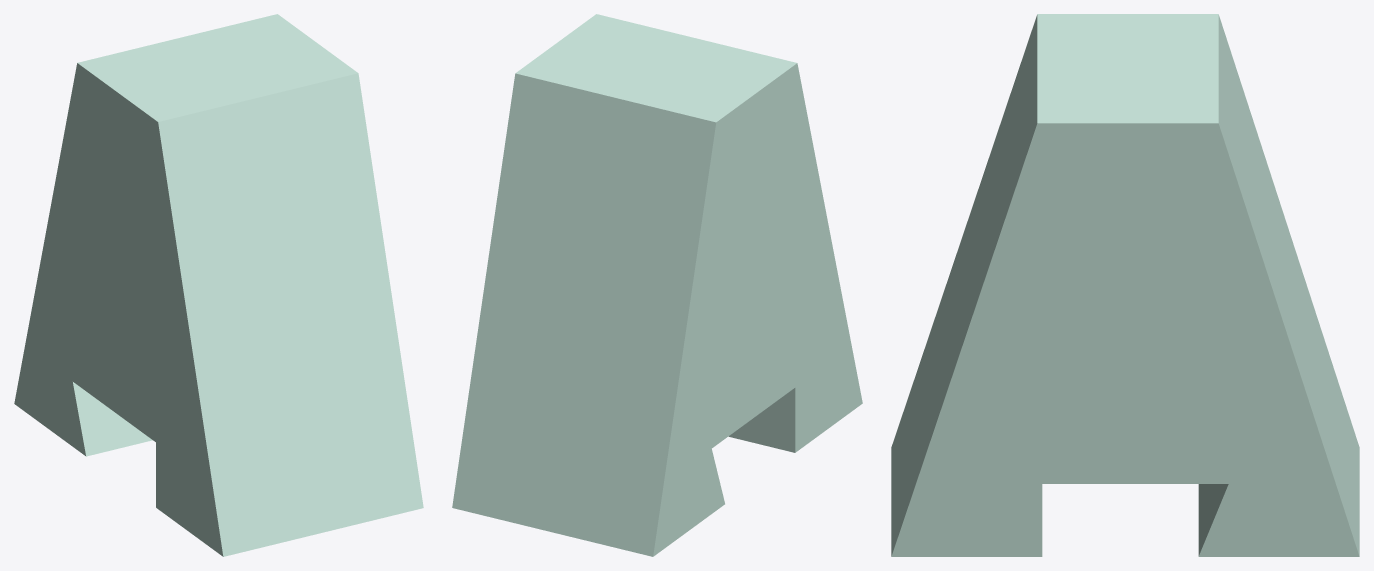
3 views of the same model, side by side, from view 1: azimuth 30°, elevation 25°; view 2: azimuth 150°, elevation 25°; view 3: azimuth 270°, elevation 25° (orthographic). The views are drawn at different scales.
Visible parts, largest first — view 1: Renderer Node; view 2: Renderer Node; view 3: Renderer Node.
Boxes of the visible parts, box(x1,y1,x2,y2) form: Renderer Node: box(14, 14, 423, 556); Renderer Node: box(452, 14, 862, 556); Renderer Node: box(891, 14, 1359, 556).
Size of the model in its own units: 0.4063 by 0.75 by 0.7342.
